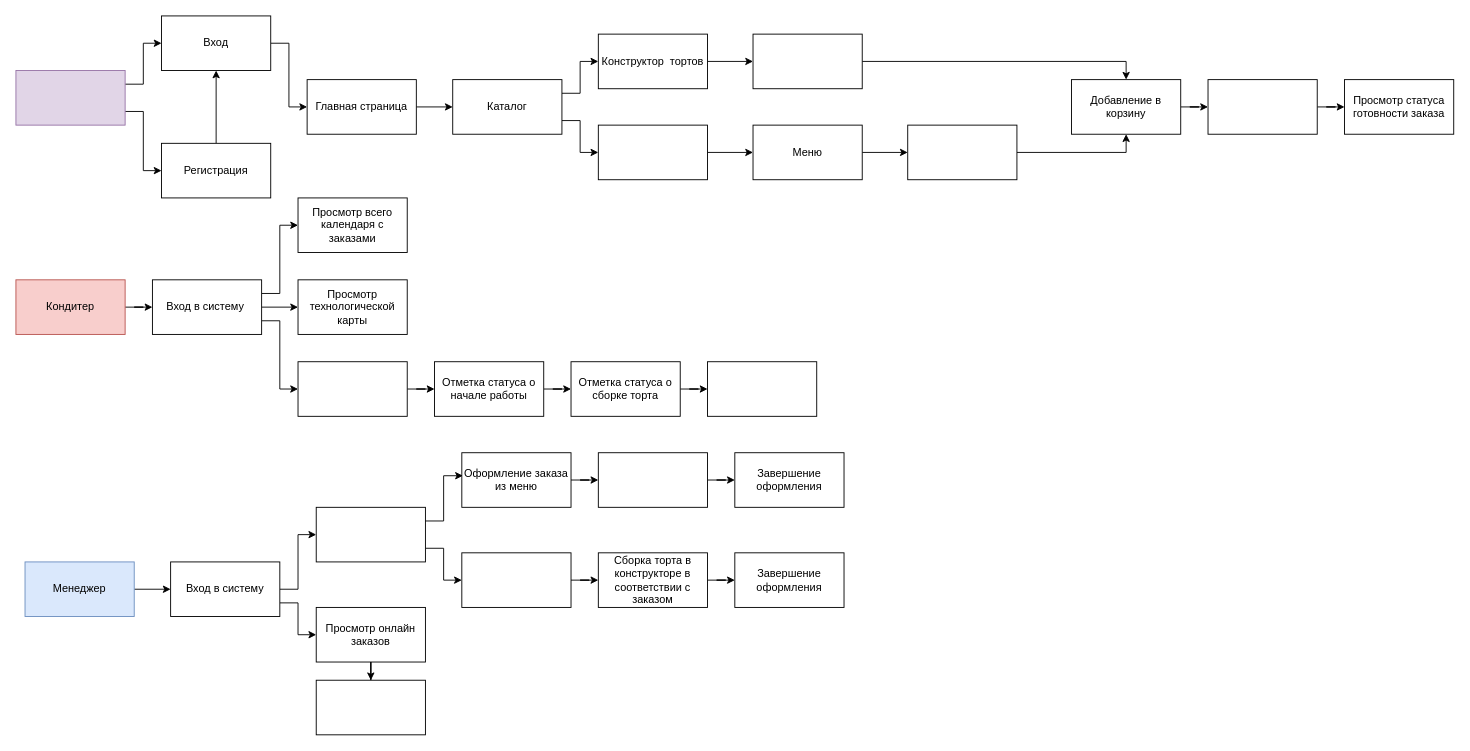
The diagram is 1470 pixels wide and 751 high, and some of its shapes have lost their labels. The shapes that lost their labels are listed below. From the top down, each one's centre as x and y in pixels, then its label:
At point (807, 61): "Сборка торта в конструкторе".
At point (70, 97): "Клиент".
At point (1262, 106): "Оформление заказа, выбор получения заказа и оплата".
At point (652, 152): "Просмотр ассортимента".
At point (962, 152): "Выбор нужной позиции".
At point (352, 388): "Просмотр панели с поступившими заказами".
At point (762, 388): "Отметка статуса о готовности".
At point (652, 479): "Выбор из меню по заказу".
At point (370, 534): "Обработка заказов полученных через звонок".
At point (516, 579): "Оформление заказа конструктора".
At point (370, 707): "Просмотр статусов готовности".
